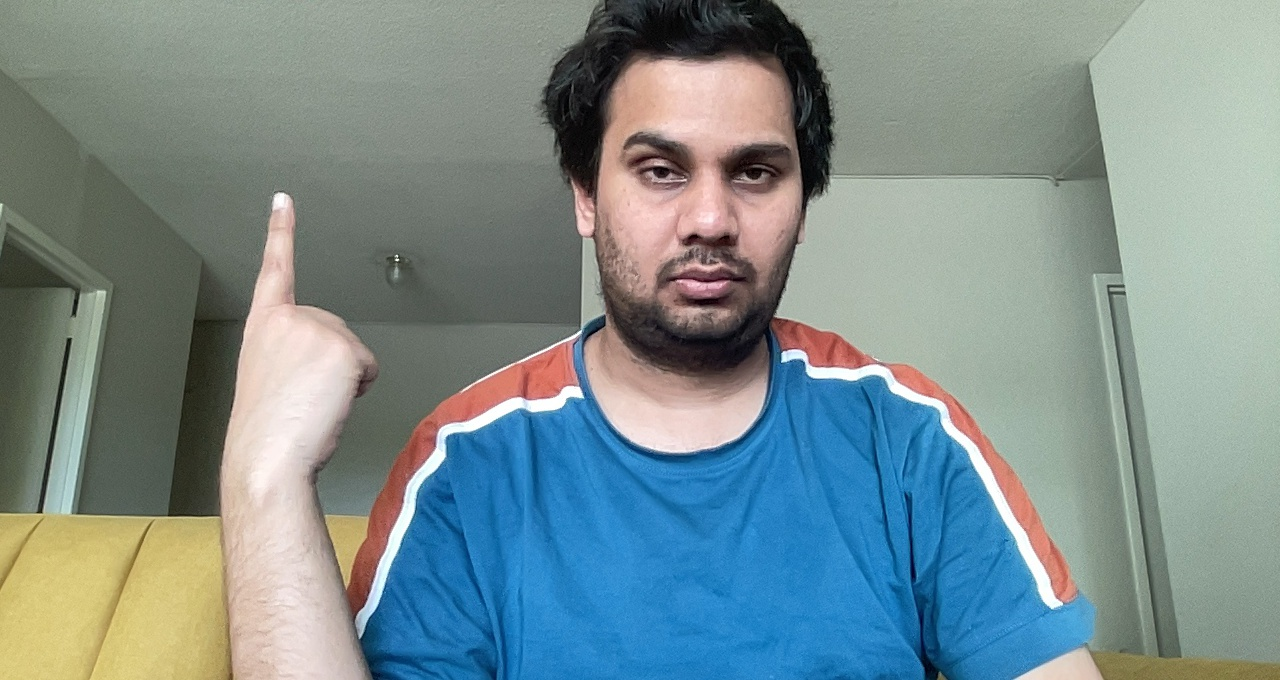fingerup: (214, 182, 383, 470)
